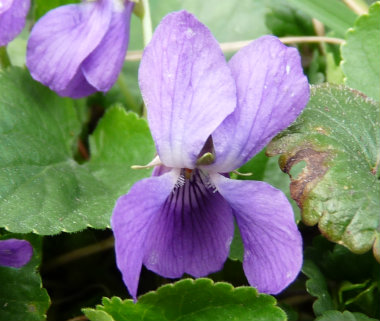violet: (124, 9, 317, 298)
